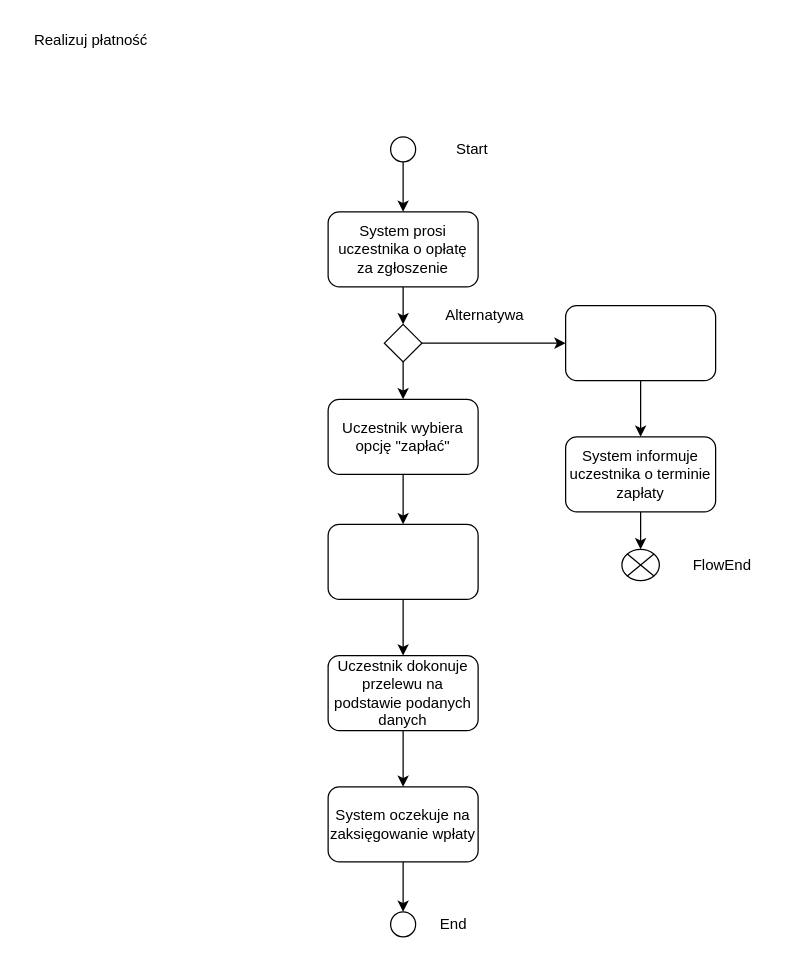
Some shapes in this 786 by 964 pixel diagram are drawn without their labels. The box of each missing label's shape, as (x1, y1, x2, y2) in pixels:
System wyświetla informację o opłacie: (327, 523, 478, 599)
Uczestnik wybiera opcję "zapłać później": (564, 304, 716, 381)
